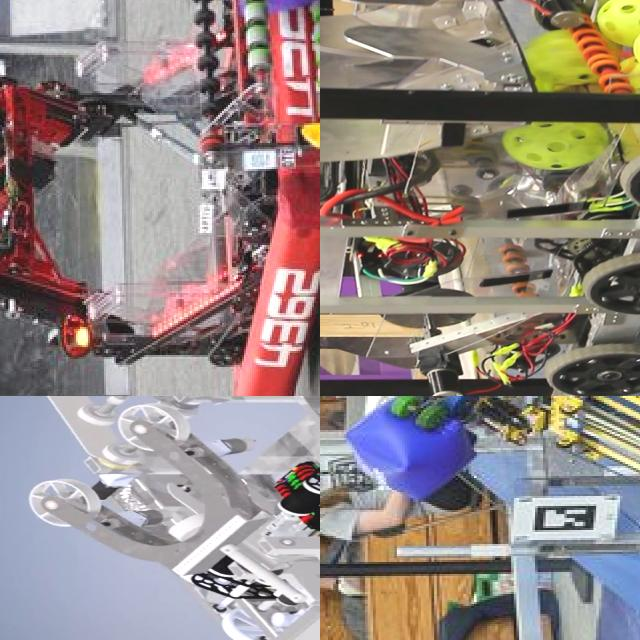FRC-Robots: (0, 0, 320, 396), (320, 0, 640, 396), (330, 396, 640, 640)
